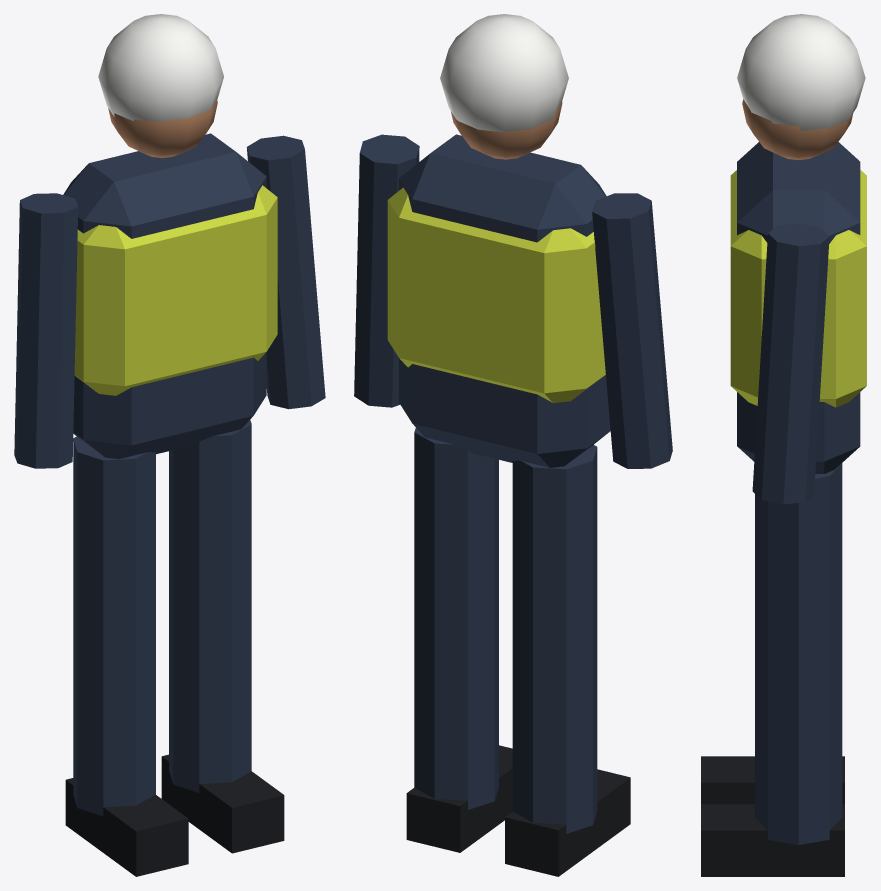
File: person.glb
3 views of the same model, side by side, from view 1: azimuth 30°, elevation 25°; view 2: azimuth 150°, elevation 25°; view 3: azimuth 270°, elevation 25° (orthographic). The views are drawn at different scales.
Visible parts, largest first — view 1: person__coverall, person__hivis, person__tyre, person__helmet, person__skin; view 2: person__coverall, person__hivis, person__helmet, person__tyre, person__skin; view 3: person__coverall, person__hivis, person__helmet, person__tyre, person__skin.
Boxes of the visible parts, <box> form: person__coverall: <box>14,133,325,816</box>; person__hivis: <box>74,185,277,395</box>; person__tyre: <box>65,754,284,876</box>; person__helmet: <box>98,14,223,122</box>; person__skin: <box>108,99,217,157</box>; person__coverall: <box>354,134,672,833</box>; person__hivis: <box>387,187,605,402</box>; person__helmet: <box>440,14,568,132</box>; person__tyre: <box>406,745,630,876</box>; person__skin: <box>451,101,562,159</box>; person__coverall: <box>737,142,860,844</box>; person__hivis: <box>730,170,866,407</box>; person__helmet: <box>737,14,865,130</box>; person__tyre: <box>701,756,844,876</box>; person__skin: <box>742,99,852,159</box>.
Bounding box in the file's own units: 0.6998 × 1.76 × 0.3225.
